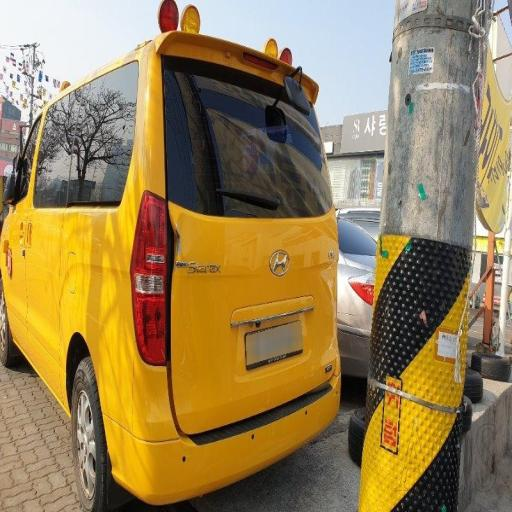dent: (95, 82, 312, 394)
